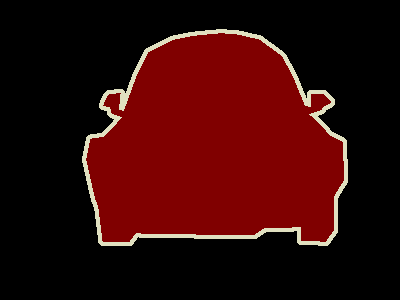car: (85, 32, 347, 245)
